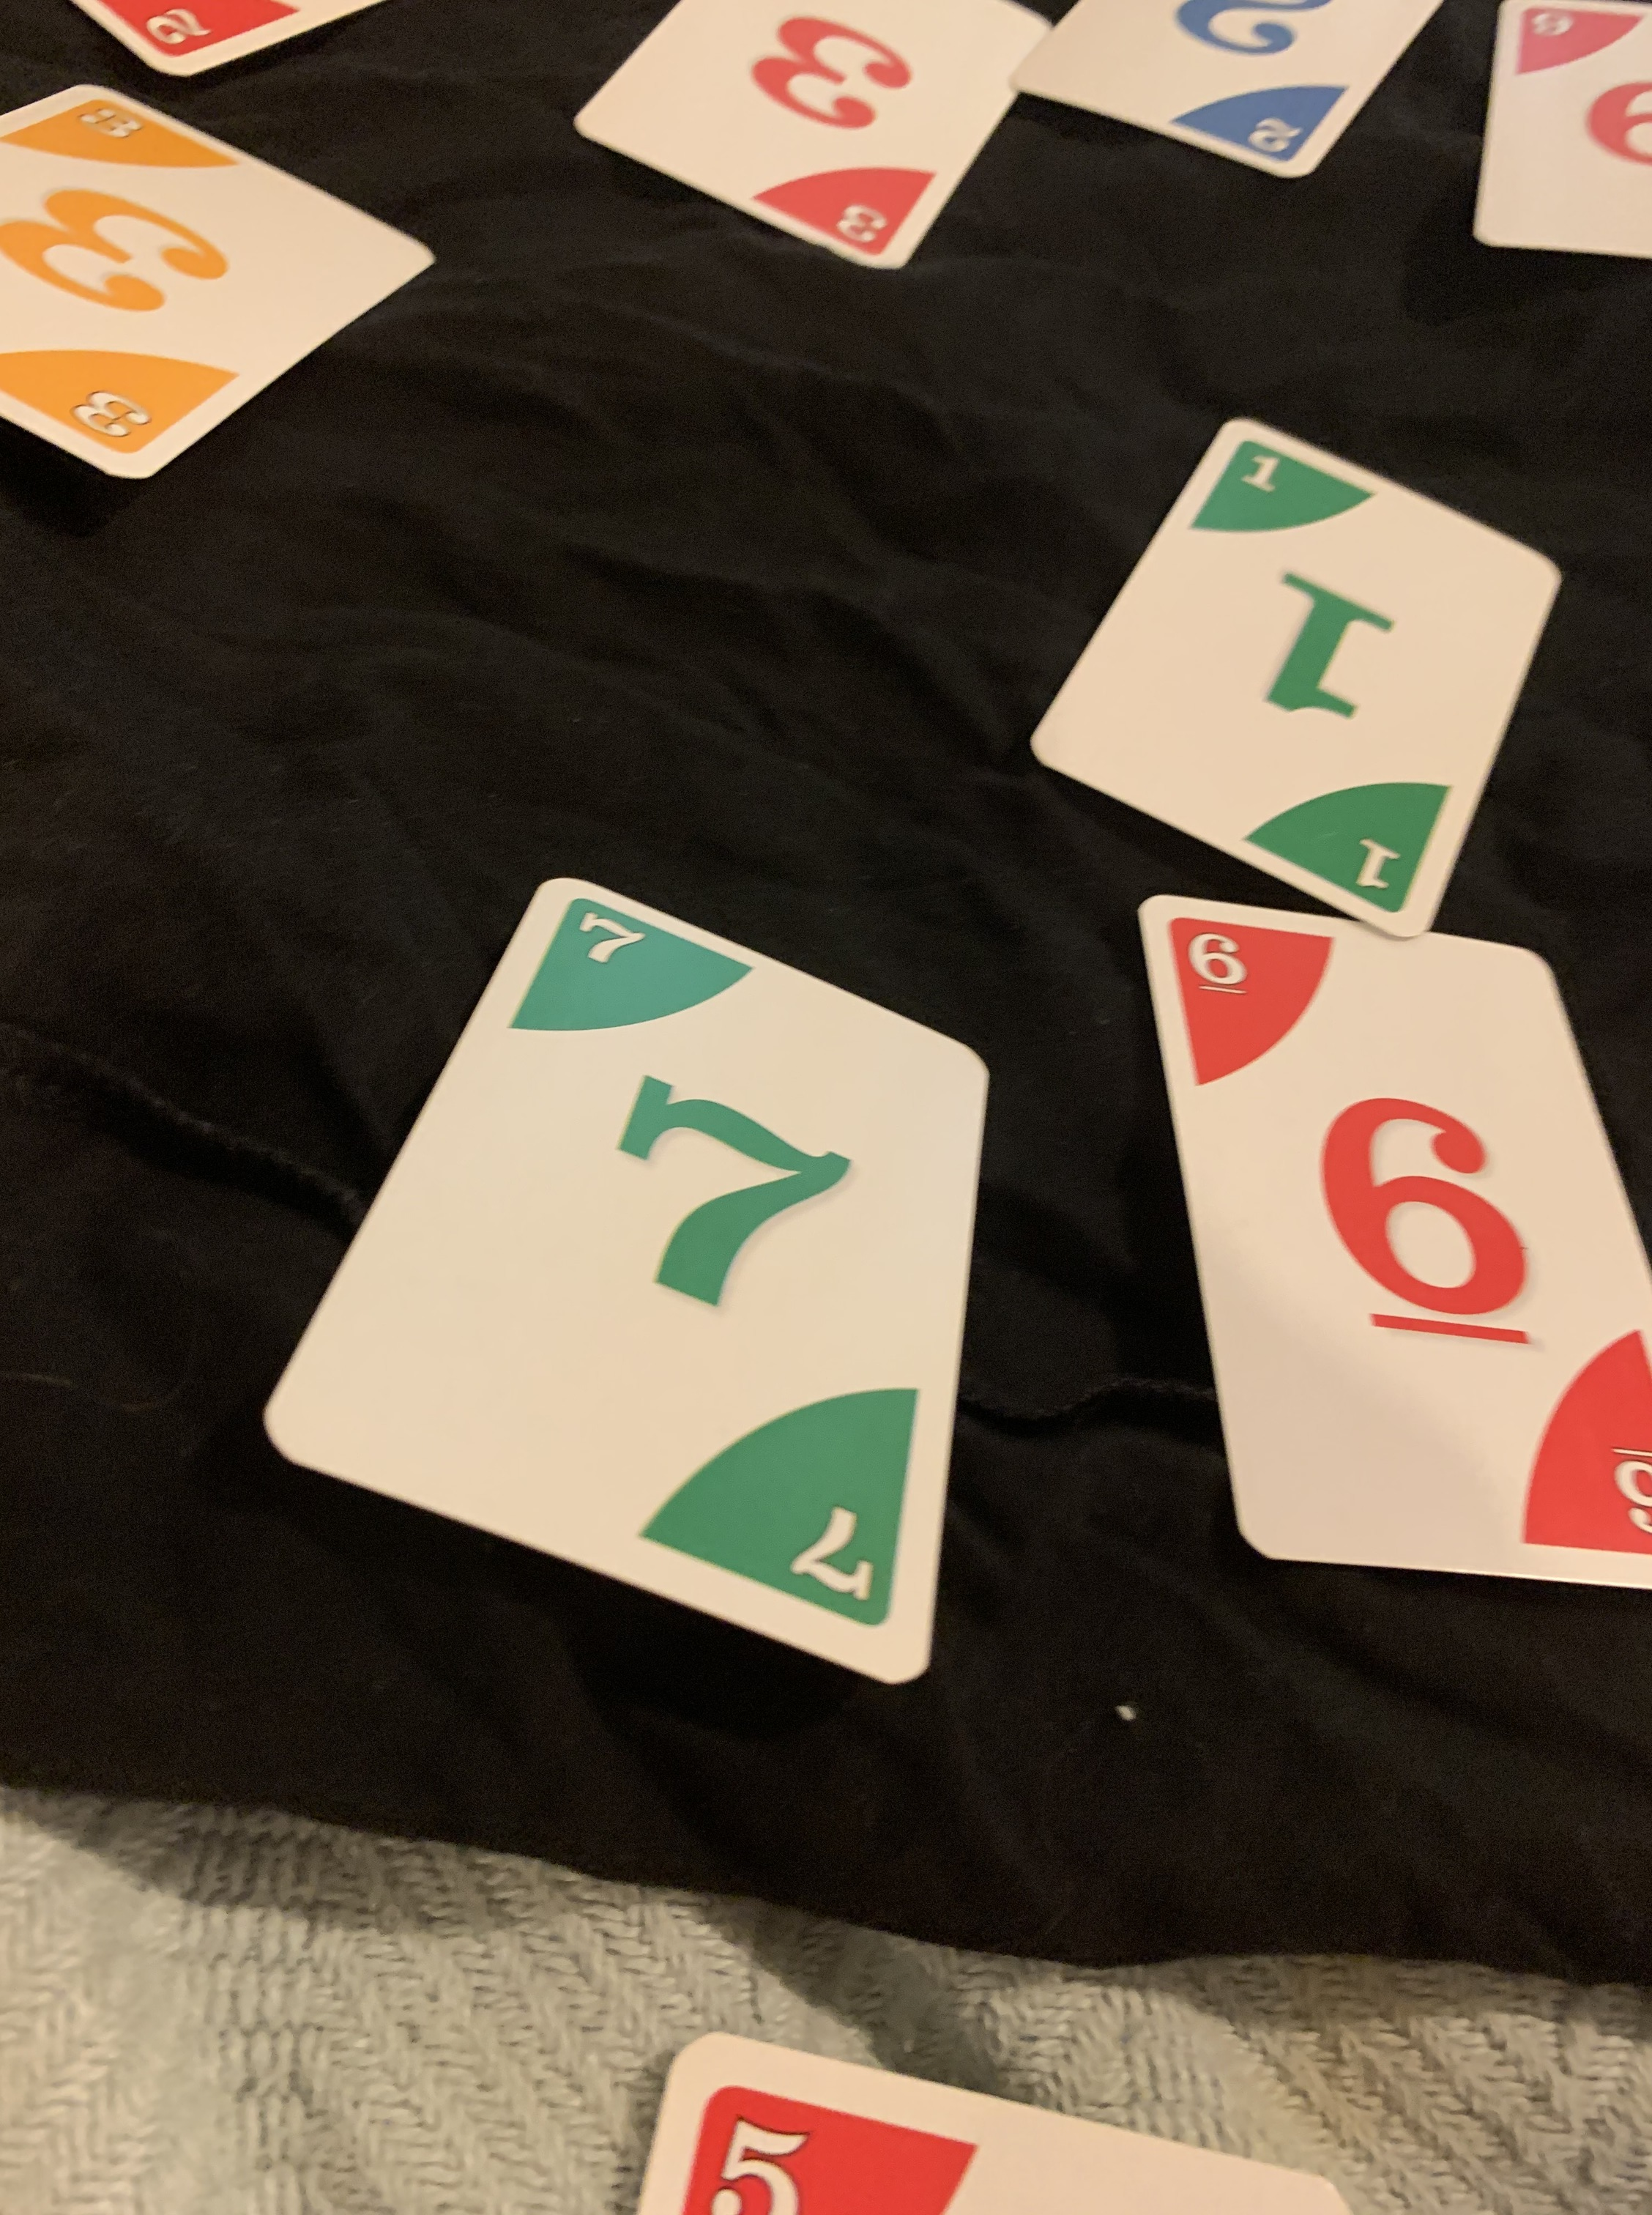one: (1015, 413, 1555, 956)
seven: (243, 859, 1005, 1698)
six: (1119, 880, 1652, 1628)
